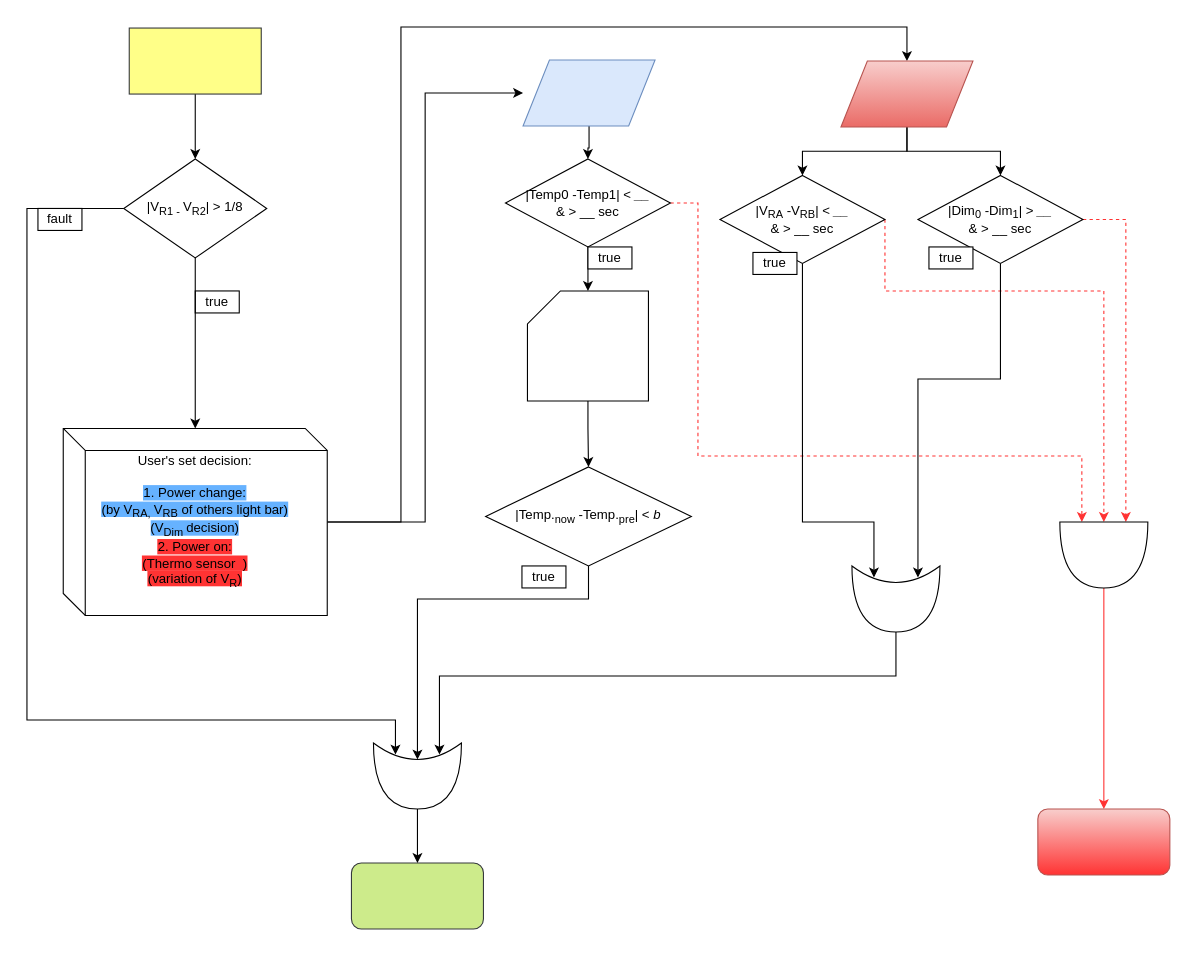
Image size: 1189x957. Some labels were removed from this diagram. Each missing label, with the box of its shape:
error: (1037, 808, 1170, 875)
Power change: (840, 60, 973, 127)
Power on: (522, 59, 655, 126)
ragular: (350, 862, 483, 929)
Start (current sensor ): (128, 27, 261, 94)
t, temperture (Flash memory): (526, 290, 648, 401)
